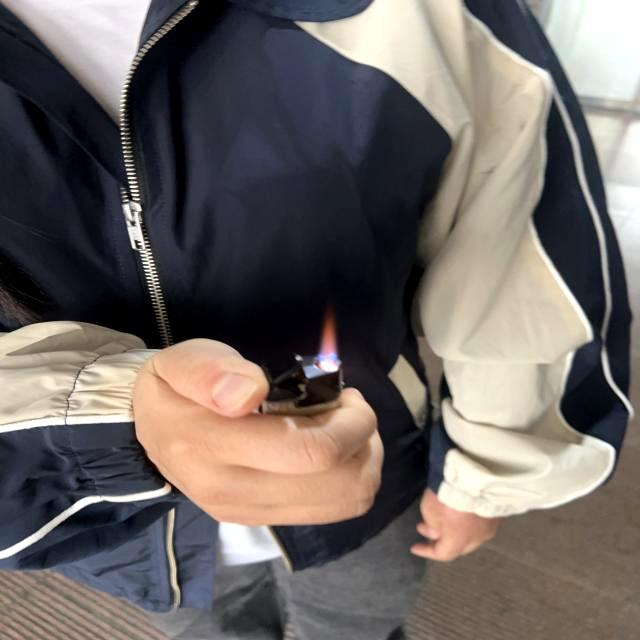fire: (316, 314, 344, 374)
